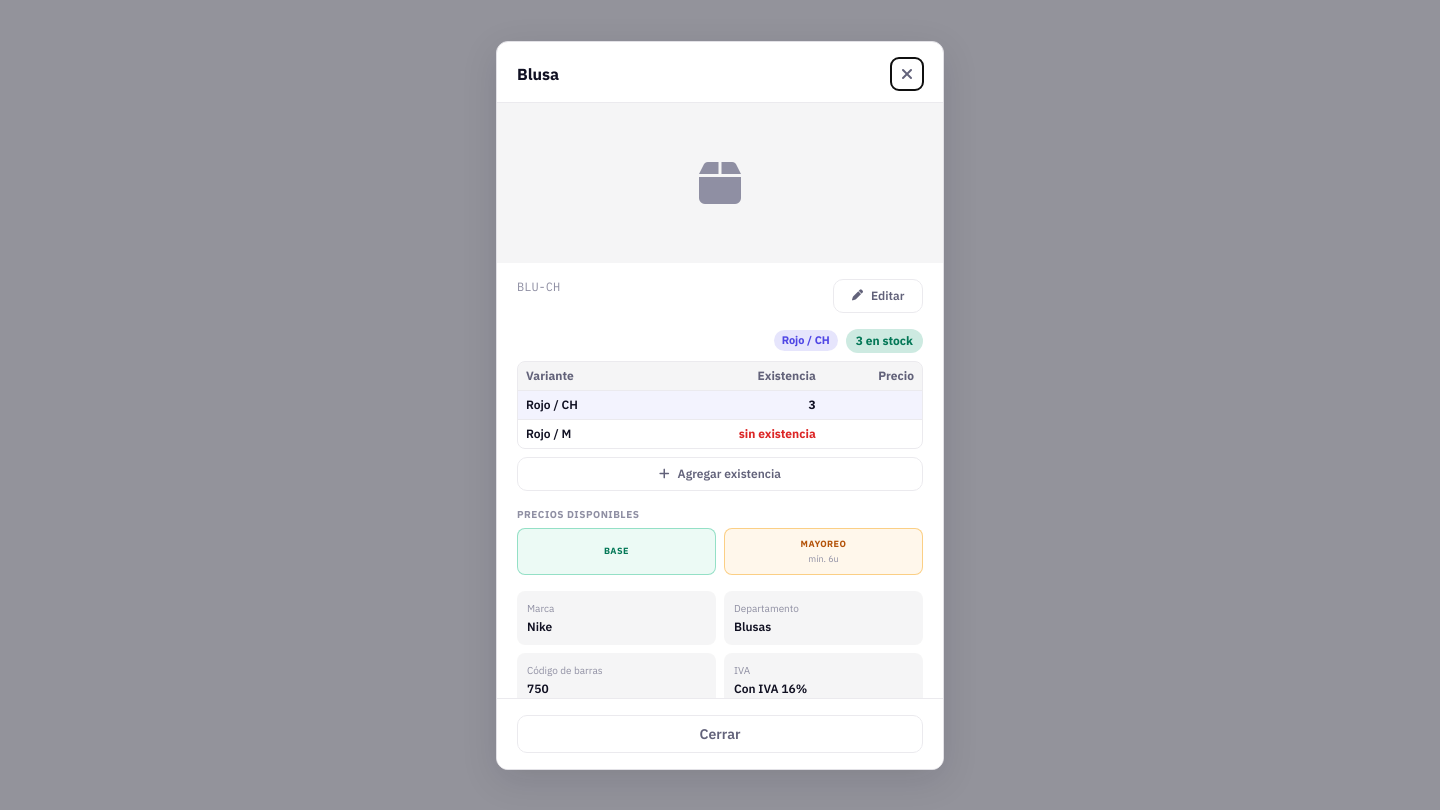
ficha de consulta del POS (SP1-c) › Agregar existencia ajusta la talla elegida en la sucursal de la cajera y recarga
Click the button "Agregar existencia".
click(720, 474)  # box [517, 456, 923, 490]
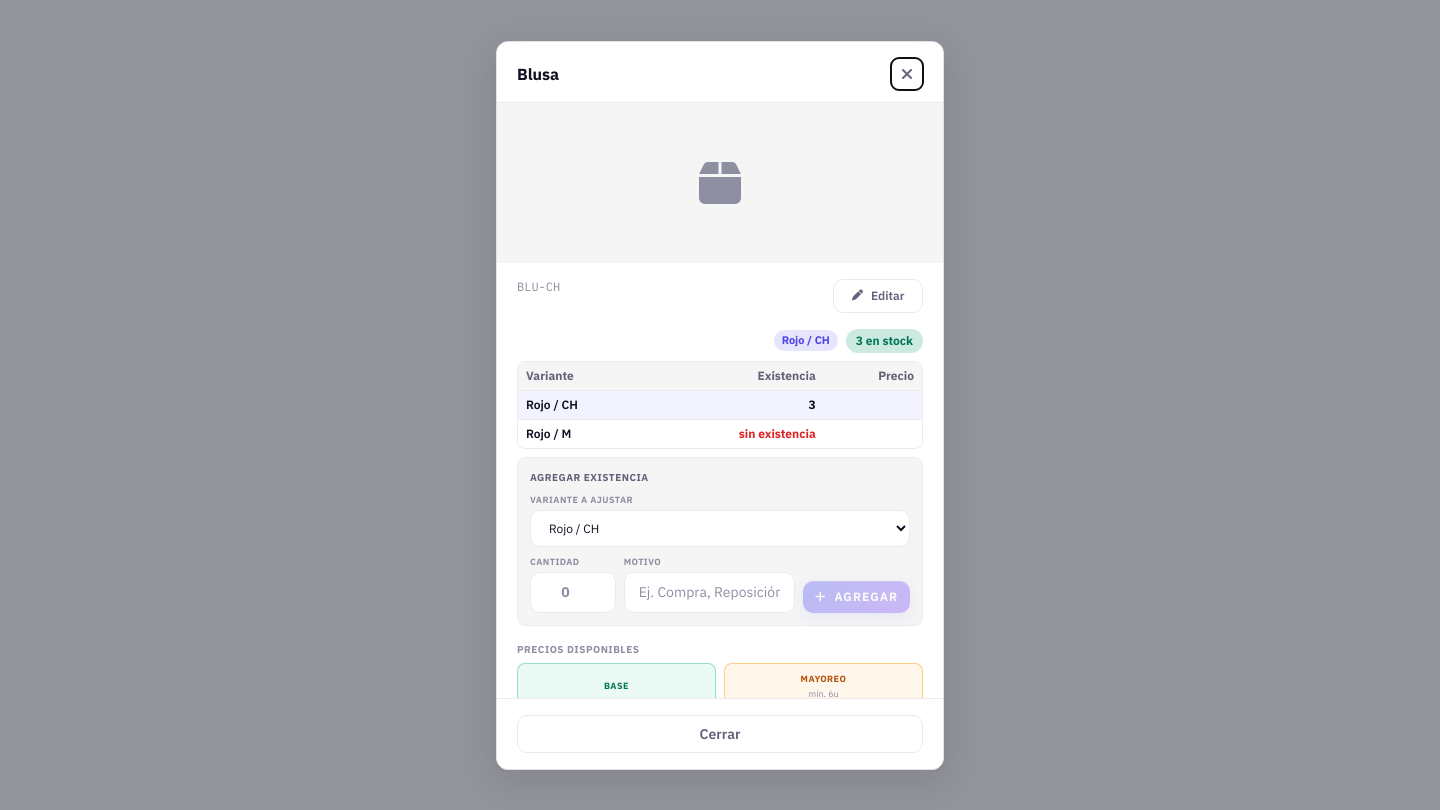
Type "5" into the number field labelled "Cantidad".
click(573, 592); type("5")  # box [530, 572, 616, 613]
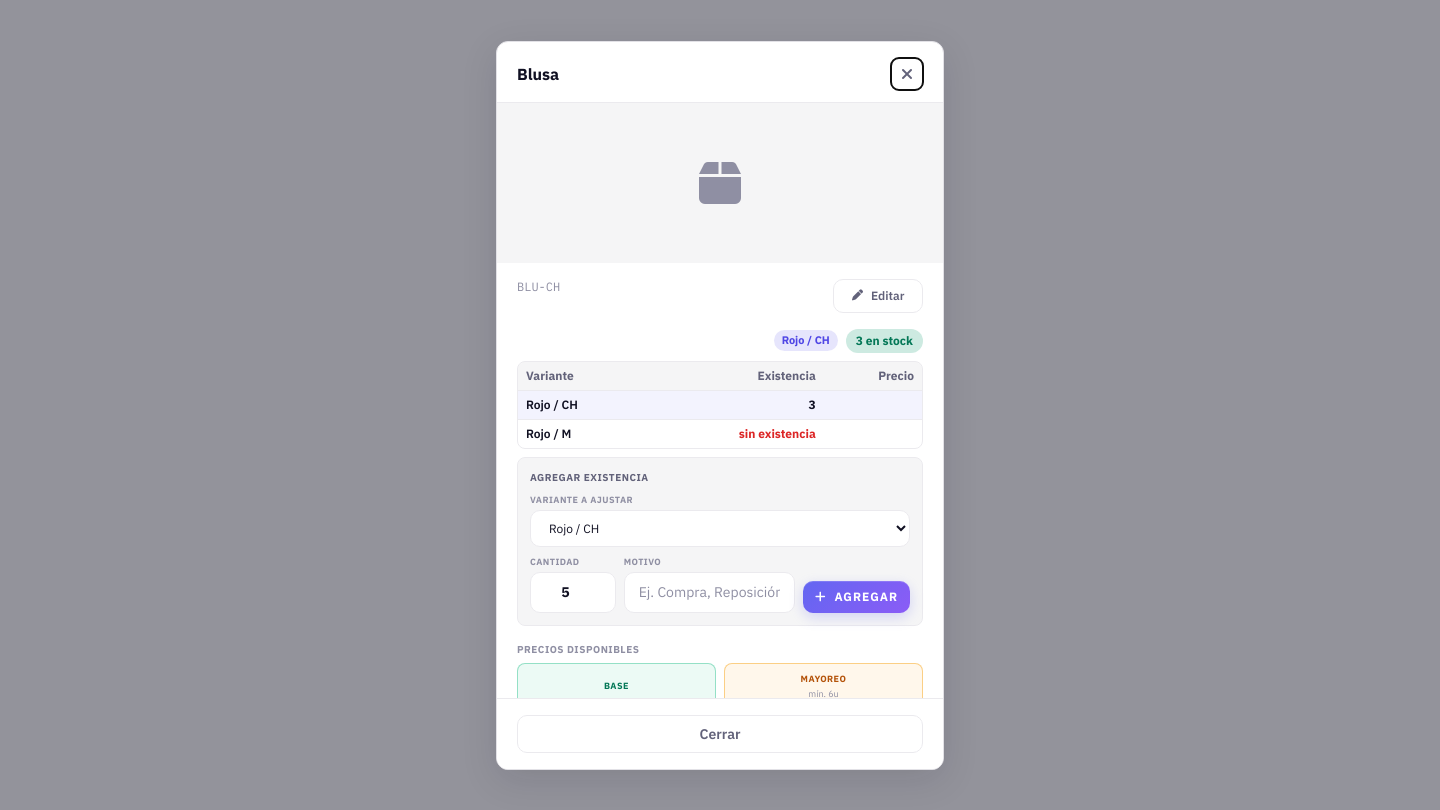
Click the button with aria-label "Registrar entrada".
click(856, 597)  # box [803, 581, 910, 613]
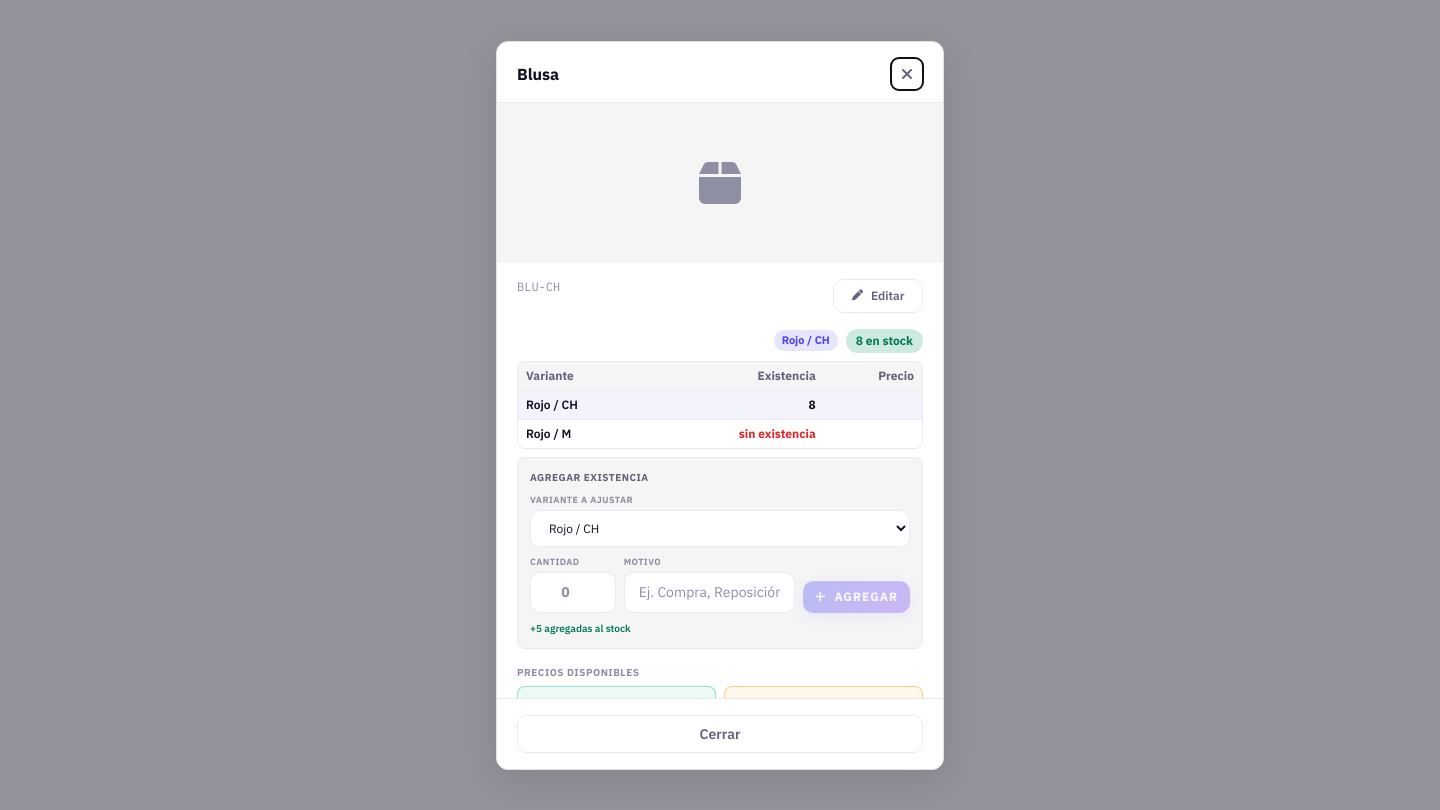
Expected: the text "+5 agregadas al stock" is shown, [530, 622, 631, 635]
Expected: the text "8 en stock" is shown, [846, 328, 923, 352]
